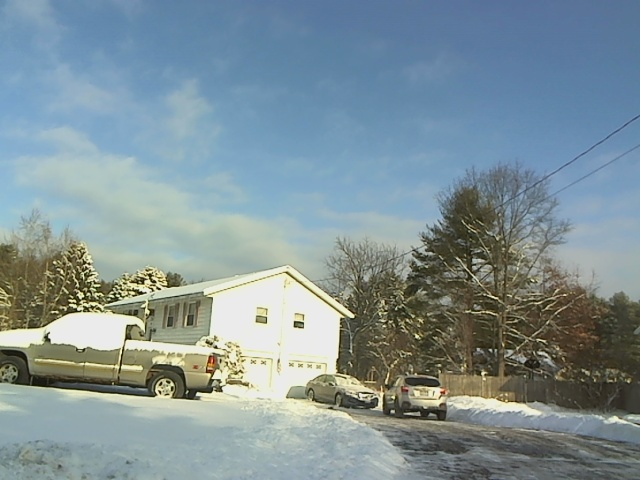Ploughed: (379, 415, 627, 476)
